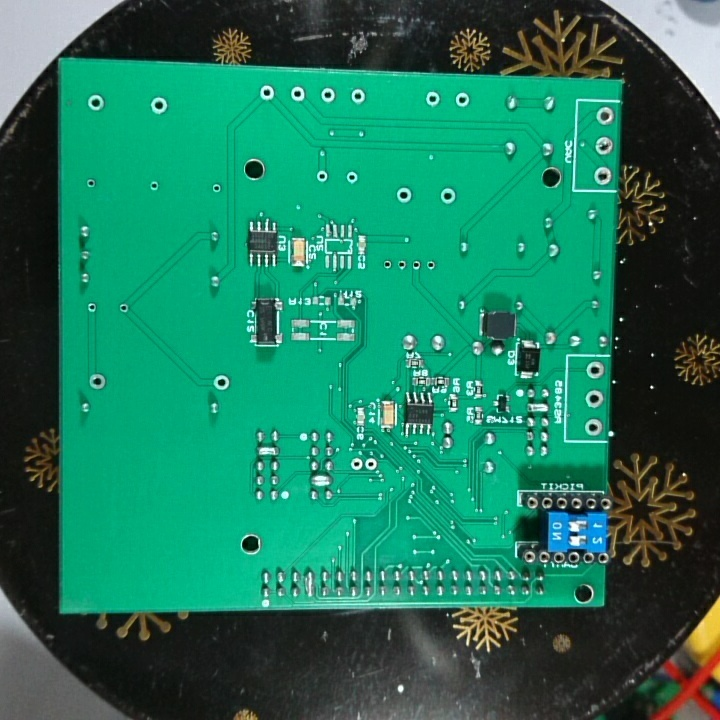F: (590, 132, 616, 160), (592, 102, 617, 131), (84, 91, 111, 116), (84, 371, 111, 395), (590, 162, 613, 186), (584, 357, 605, 383), (147, 95, 173, 116), (211, 372, 233, 396), (583, 388, 604, 412), (436, 186, 461, 206), (318, 85, 340, 106), (288, 84, 310, 104), (394, 186, 416, 206), (349, 83, 366, 108), (422, 90, 444, 109), (585, 414, 602, 437), (454, 89, 472, 109), (258, 83, 276, 102), (313, 166, 332, 184), (85, 175, 103, 193), (146, 179, 165, 195), (343, 168, 361, 184), (424, 256, 438, 275), (348, 457, 364, 473), (208, 180, 224, 196), (364, 455, 379, 471), (115, 301, 130, 317), (379, 258, 396, 272), (86, 300, 100, 315), (396, 258, 409, 274), (411, 257, 422, 273)
P: (301, 566, 319, 599), (309, 472, 335, 489), (524, 401, 552, 416), (255, 443, 281, 458)
